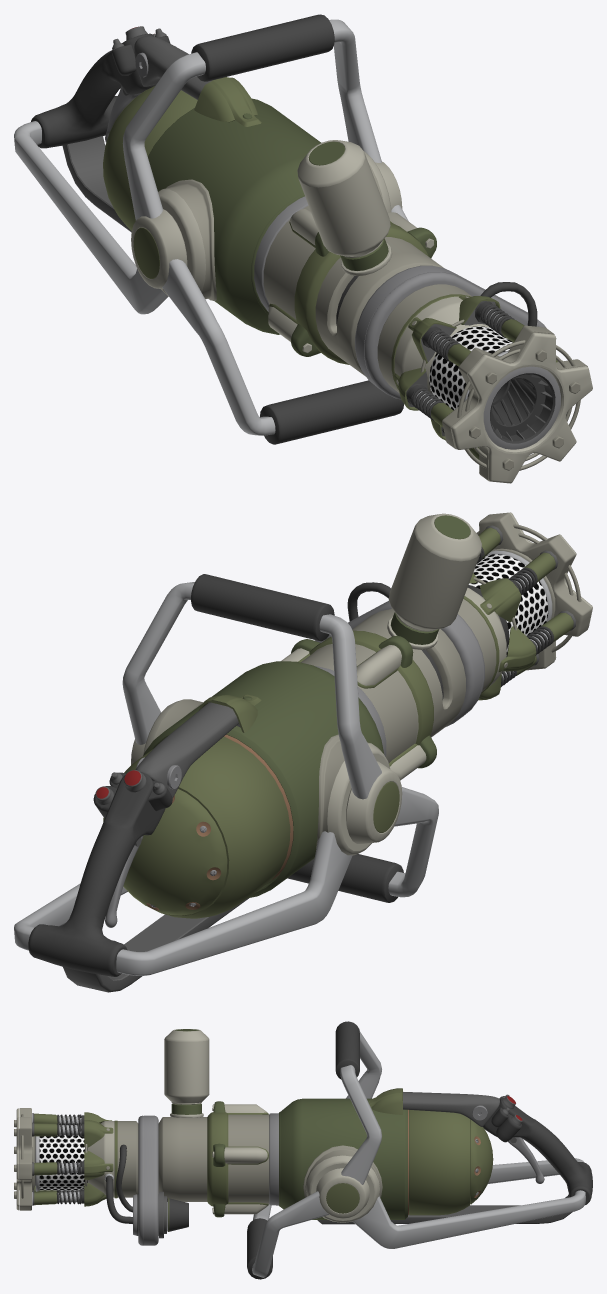
File: railgun.fbx
The picture shows the model from 3 angles, top to bottom: view 1: azimuth 30°, elevation 25°; view 2: azimuth 150°, elevation 25°; view 3: azimuth 270°, elevation 25°; orthographic projection. The views are drawn at different scales.
Visible parts, largest first — view 1: Cannon, Oslona; view 2: Cannon, Oslona; view 3: Cannon, Oslona.
Part boxes in pixels (left/top/right/bottom): Cannon: left=14, top=14, right=592, bottom=483; Oslona: left=429, top=326, right=513, bottom=410; Cannon: left=14, top=512, right=592, bottom=992; Oslona: left=468, top=554, right=548, bottom=656; Cannon: left=14, top=1021, right=592, bottom=1279; Oslona: left=39, top=1135, right=84, bottom=1190.
Size of the model in its own units: 160 by 214 by 510.
